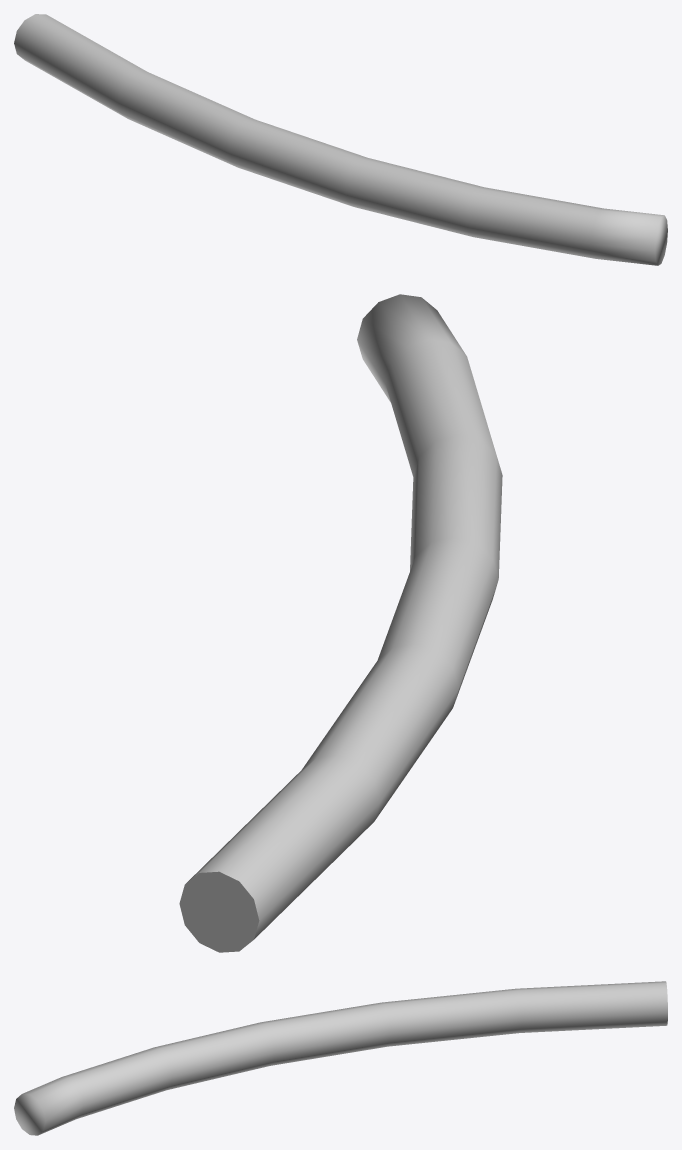
Rendered from EigthRail_36_5x36_5x1_78.fbx.
3 views of the same model, one above another, from view 1: azimuth 30°, elevation 25°; view 2: azimuth 150°, elevation 25°; view 3: azimuth 270°, elevation 25° (orthographic). The views are drawn at different scales.
Visible parts, largest first — view 1: EigthRail_36,5x36,5x1,78; view 2: EigthRail_36,5x36,5x1,78; view 3: EigthRail_36,5x36,5x1,78.
Boxes of the visible parts, box(x1,y1,x2,y2) form: EigthRail_36,5x36,5x1,78: box(14, 14, 667, 265); EigthRail_36,5x36,5x1,78: box(179, 294, 502, 952); EigthRail_36,5x36,5x1,78: box(14, 981, 667, 1135).
Size of the model in its own units: 12.01 by 1.78 by 26.05.
